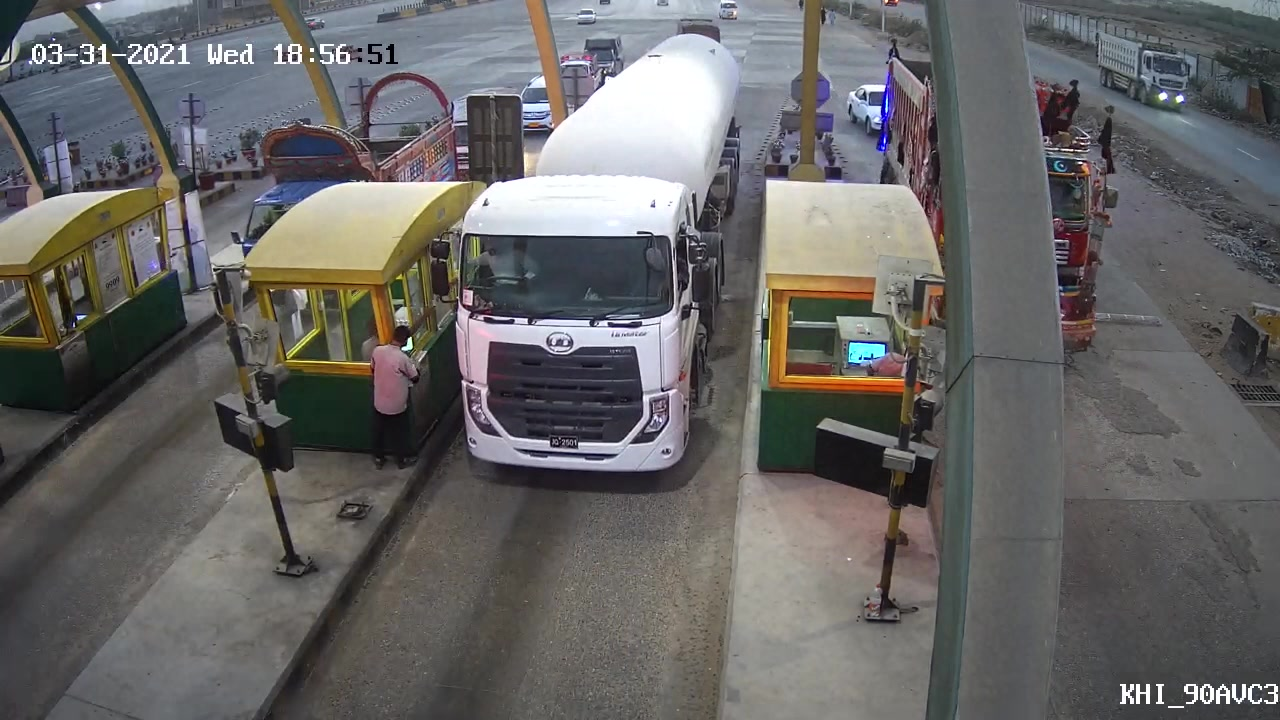F6: (443, 29, 755, 490)
